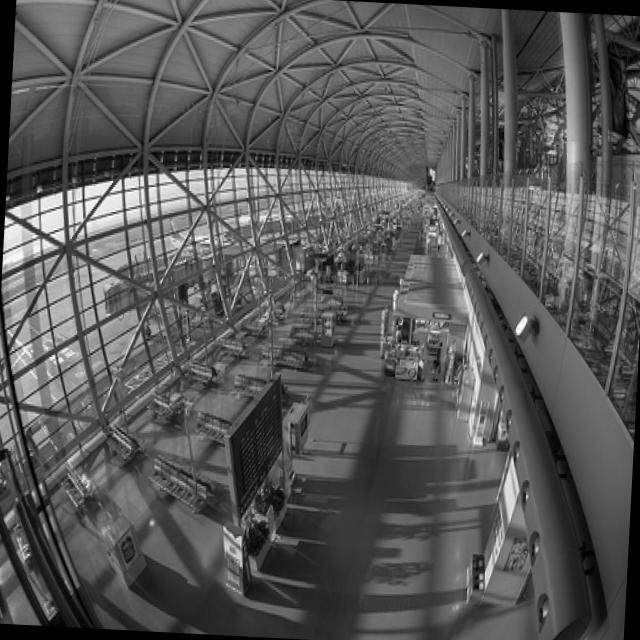ceiling beam: (7, 0, 640, 203)
column occluded: (478, 452, 529, 608)
floor -X: (0, 186, 537, 640)
gate number: (426, 167, 437, 188)
glass: (0, 153, 426, 535), (433, 29, 640, 441)
screen occluded: (223, 371, 281, 519)
seats crop: (150, 455, 214, 507), (105, 420, 146, 459), (259, 343, 309, 368), (192, 409, 230, 441)
shop window: (377, 249, 467, 373)
wall clock: (433, 190, 632, 640)
